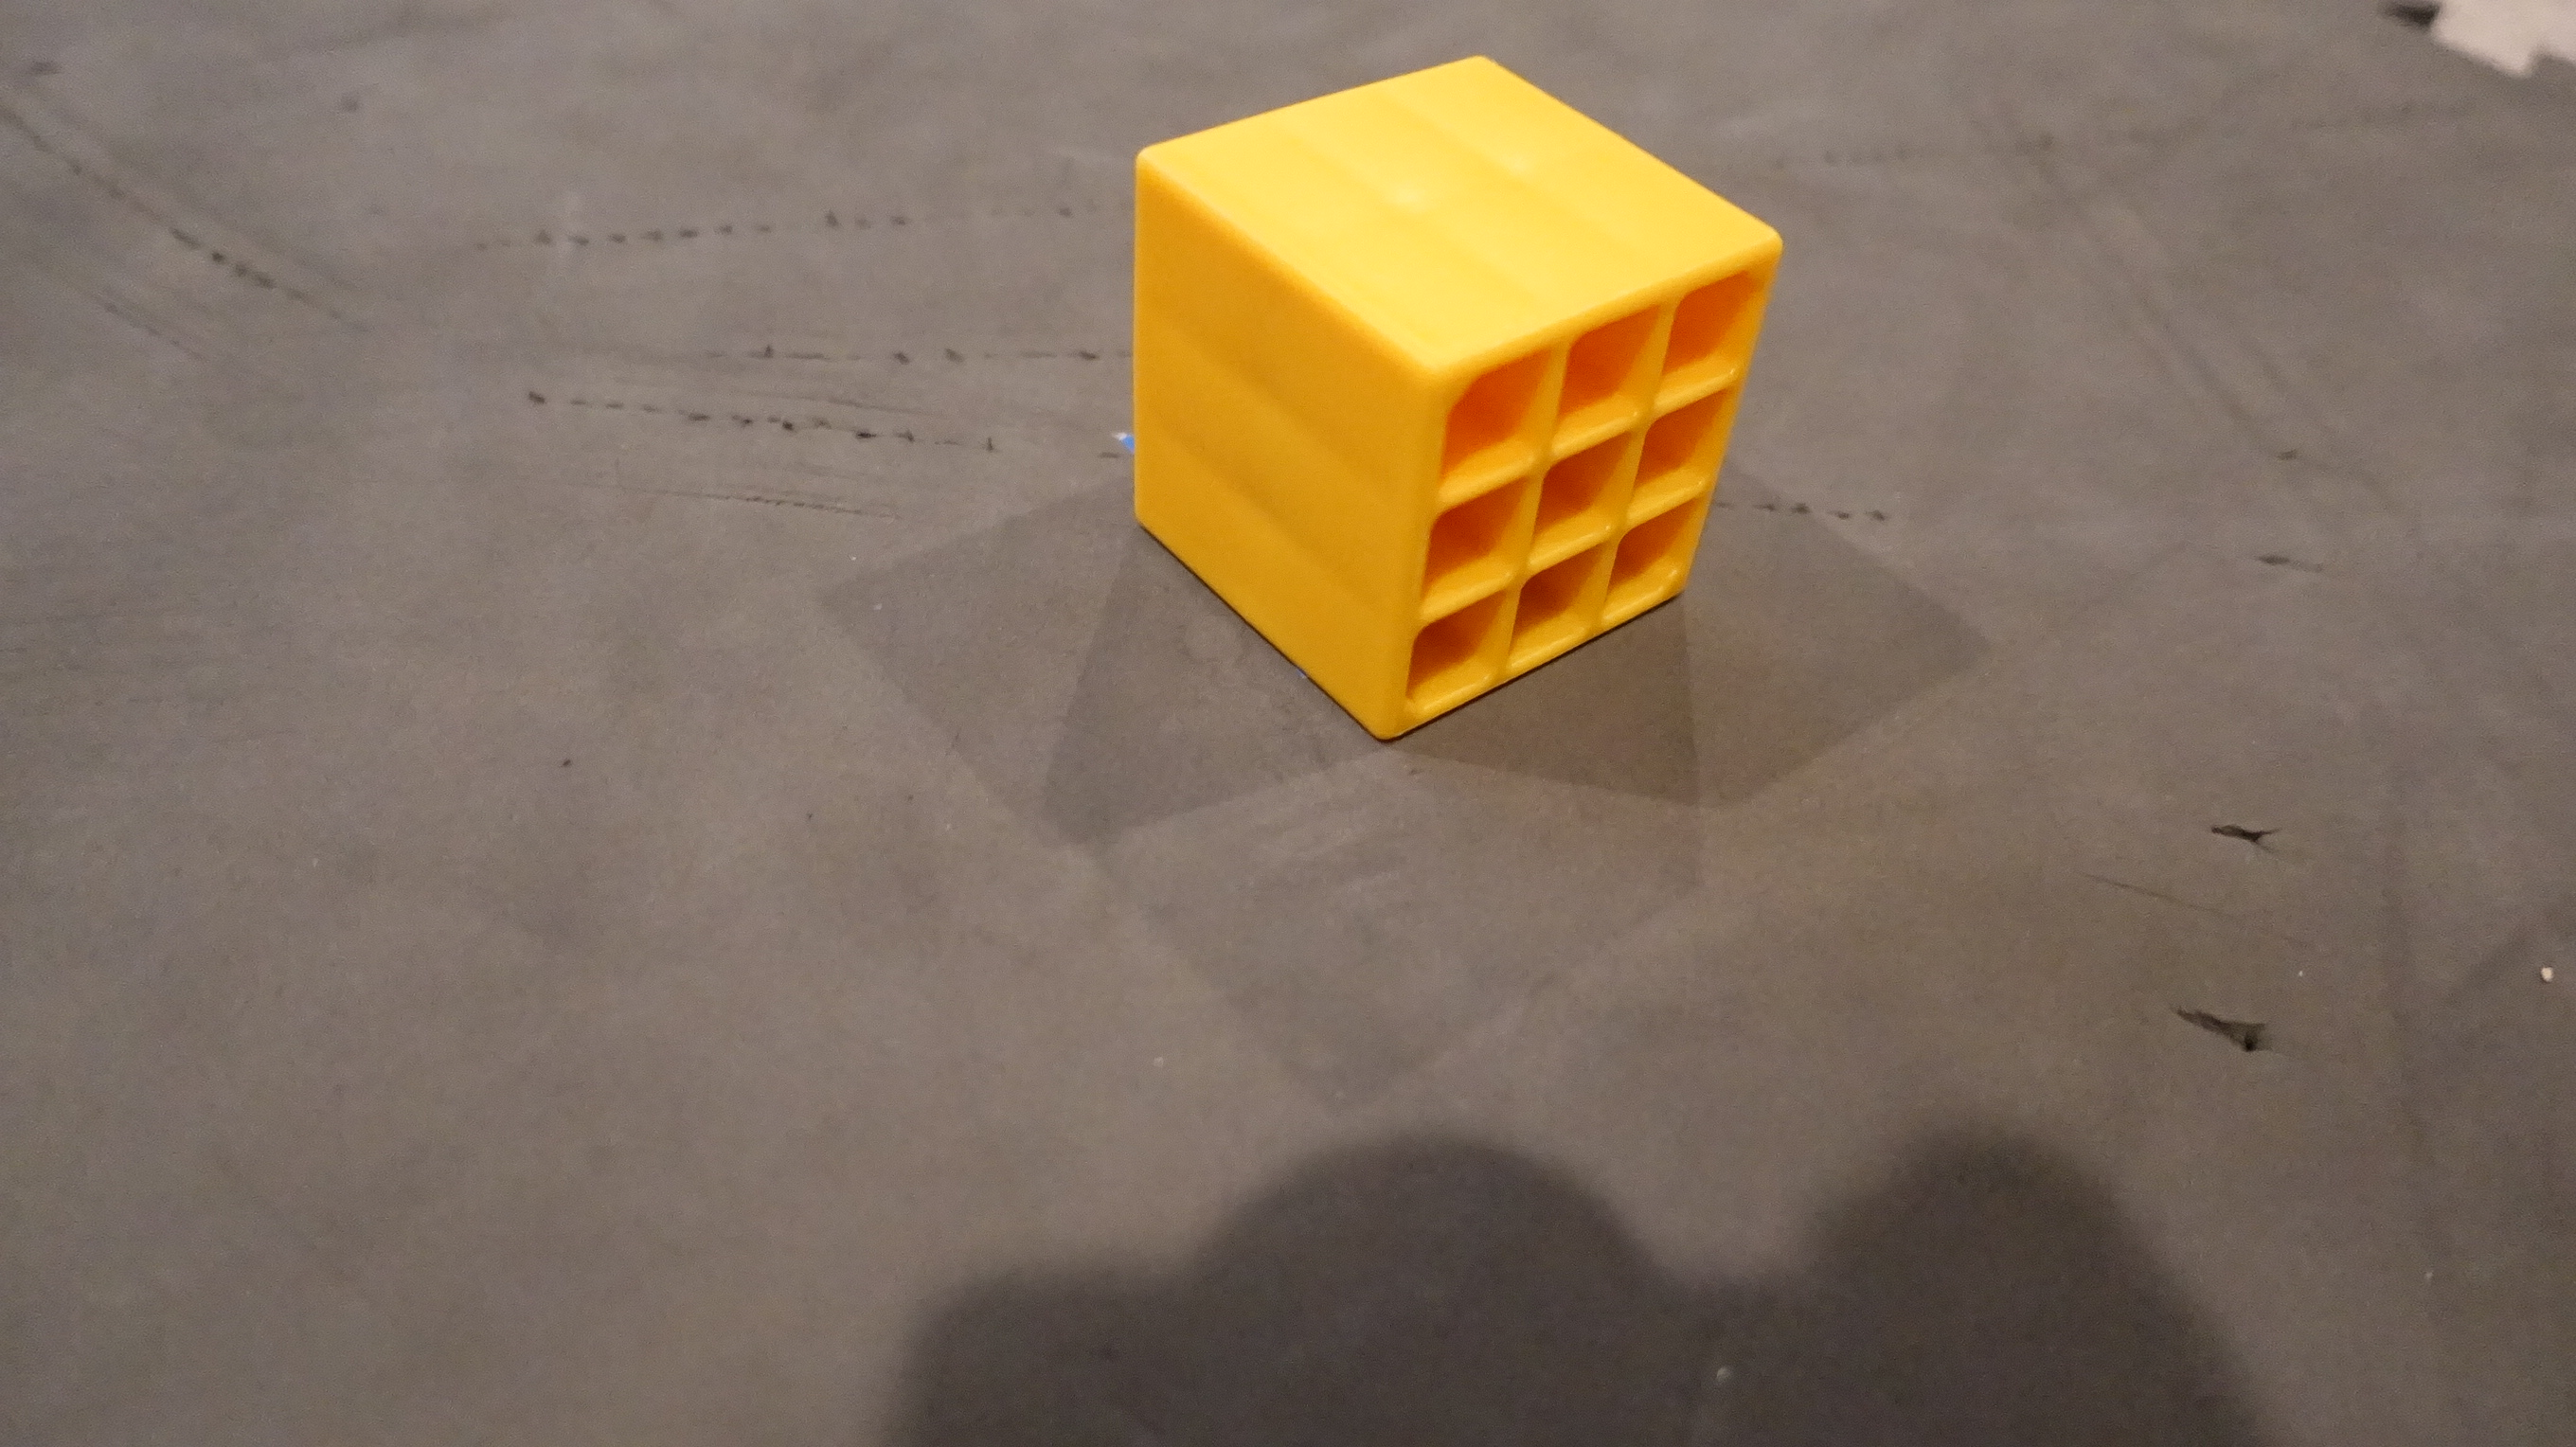gold: (1097, 44, 1794, 746)
